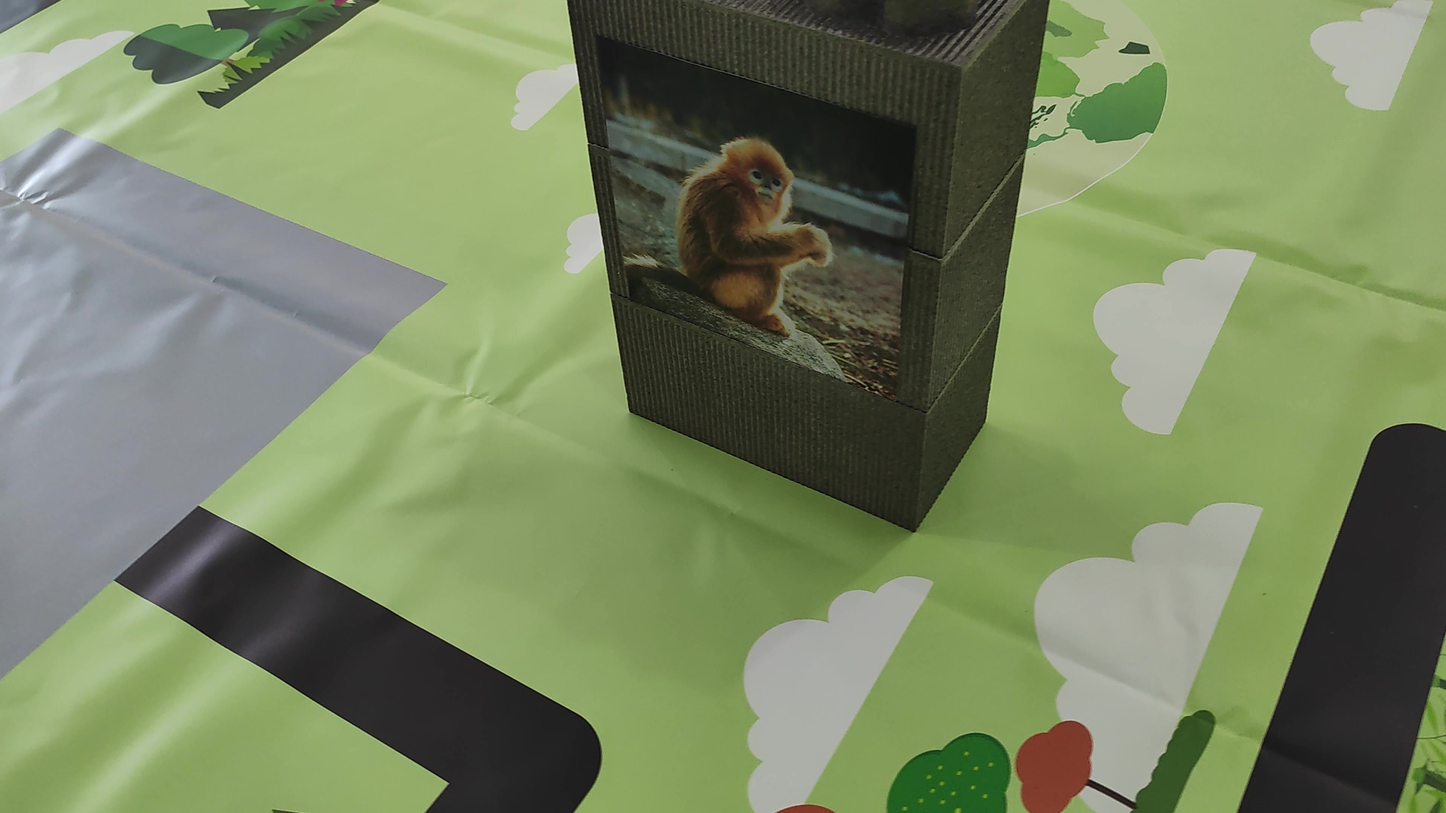monkey: (623, 90, 845, 321)
